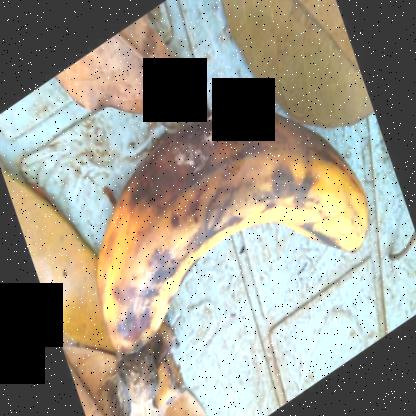rotten: (94, 76, 377, 353)
